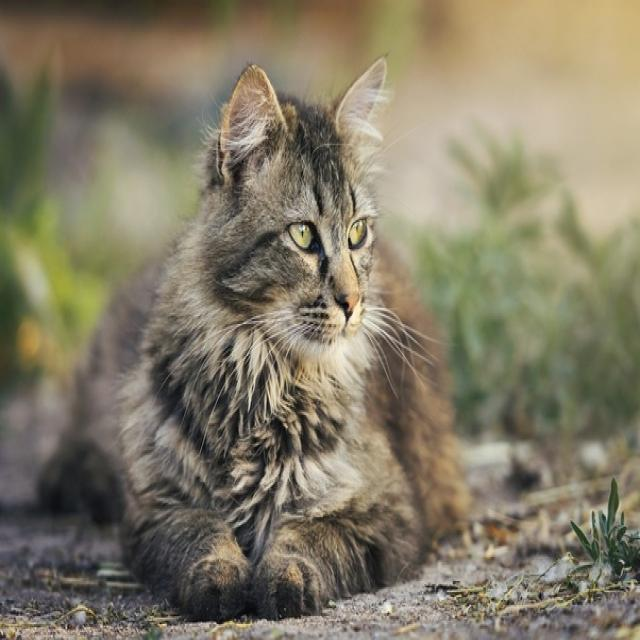cat: (39, 58, 468, 618)
